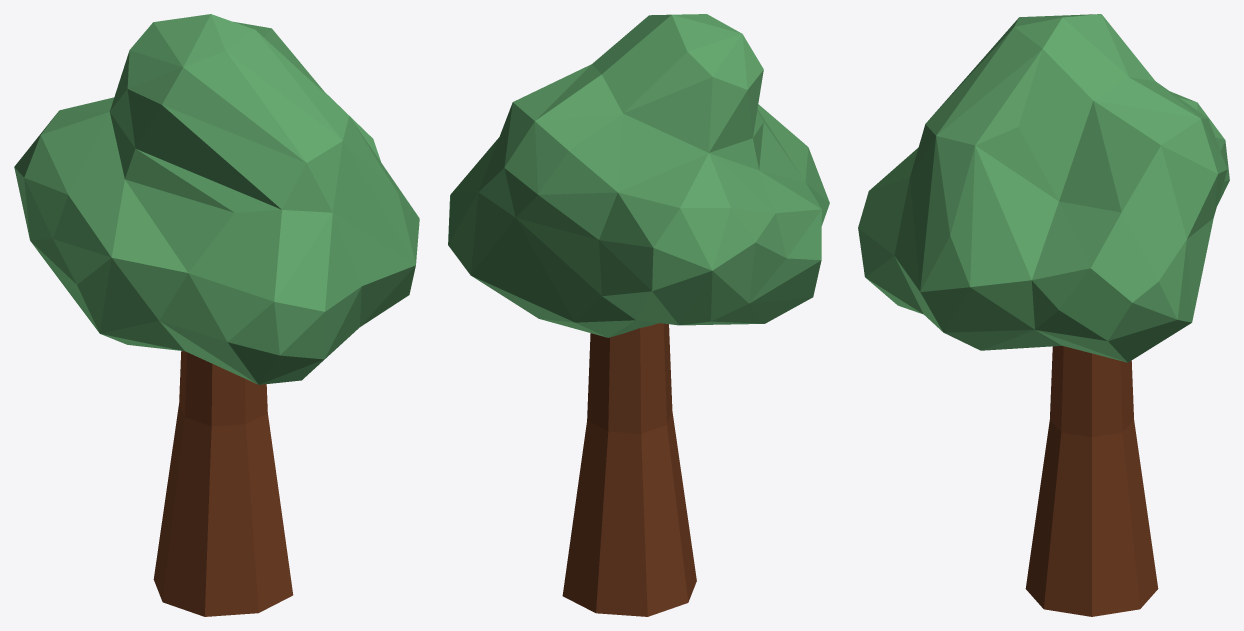
Rendered from tree1.fbx.
The picture shows the model from 3 angles, left to right: view 1: azimuth 30°, elevation 25°; view 2: azimuth 150°, elevation 25°; view 3: azimuth 270°, elevation 25°; orthographic projection. The views are drawn at different scales.
Visible parts, largest first — view 1: Mball.012; view 2: Mball.012; view 3: Mball.012.
Boxes of the visible parts, bbox=[...] form: Mball.012: bbox=[14, 14, 419, 616]; Mball.012: bbox=[448, 14, 829, 616]; Mball.012: bbox=[858, 14, 1229, 616].
Size of the model in its own units: 535 by 894 by 540.
